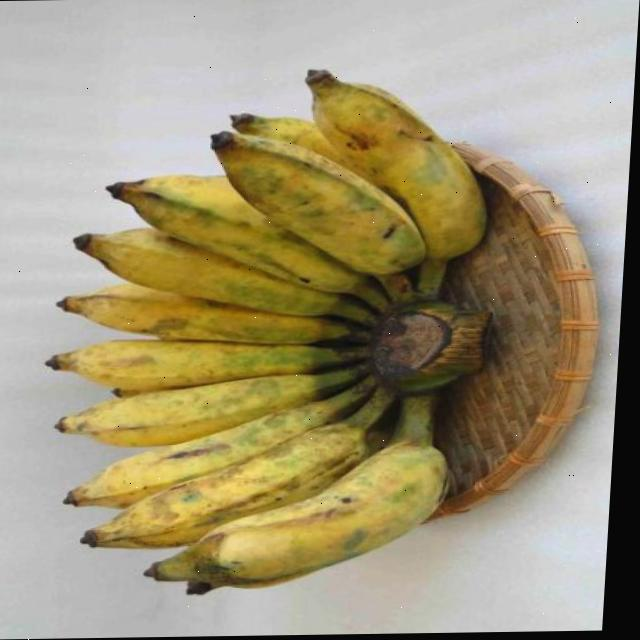banana: (27, 59, 535, 597)
